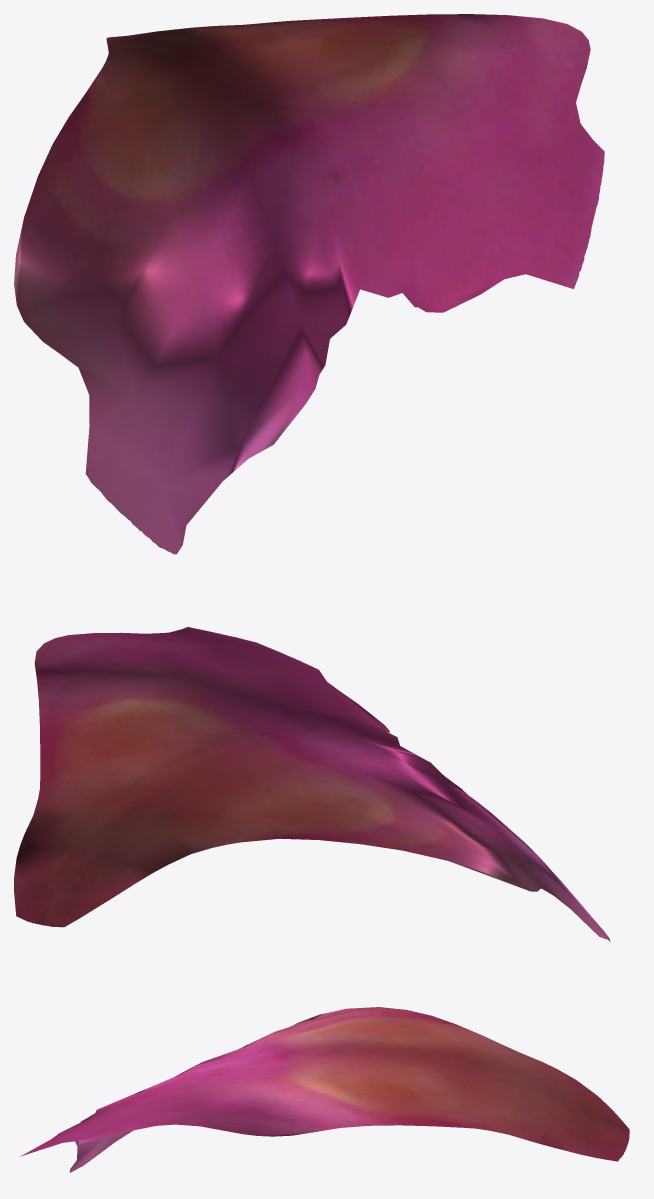
Rendered from flower2.glb.
3 renders of one model, top to bottom at view 1: azimuth 30°, elevation 25°; view 2: azimuth 150°, elevation 25°; view 3: azimuth 270°, elevation 25°, orthographic. The views are drawn at different scales.
Parts seen in each view (by area): view 1: flower2; view 2: flower2; view 3: flower2.
Part boxes in pixels (<box>): flower2: <box>14,14,604,554</box>; flower2: <box>14,626,610,941</box>; flower2: <box>20,1007,629,1172</box>.
Bounding box in the file's own units: 0.398 × 0.2179 × 0.4515.
1 material, 1 textured.
